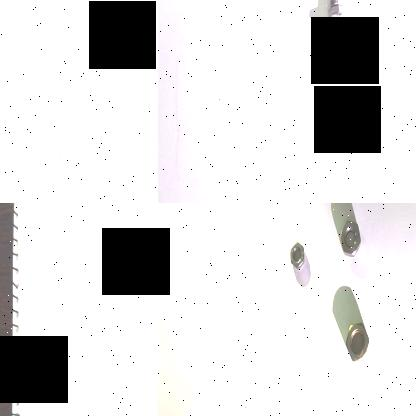Bolts: (321, 0, 343, 24)
NUTS: (344, 320, 368, 364), (339, 217, 361, 259), (286, 240, 306, 268)
